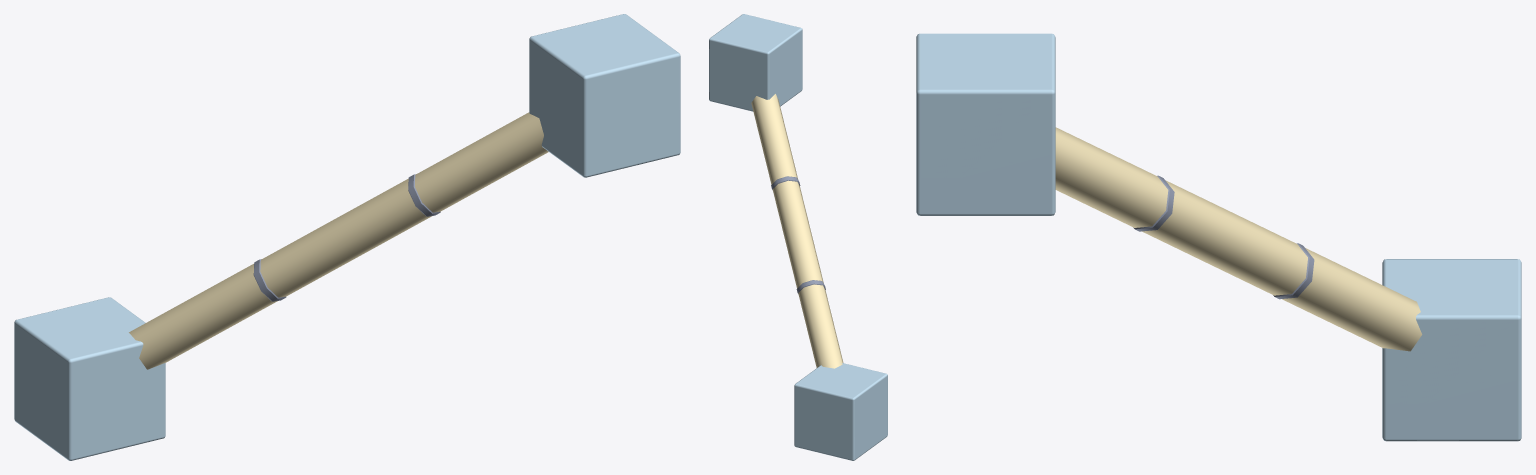
File: R4C_ROD_DIAG_3D.glb
The picture shows the model from 3 angles, left to right: view 1: azimuth 30°, elevation 25°; view 2: azimuth 150°, elevation 25°; view 3: azimuth 270°, elevation 25°; orthographic projection. The views are drawn at different scales.
Parts seen in each view (by area): view 1: R4C_ROD_DIAG_3D; view 2: R4C_ROD_DIAG_3D; view 3: R4C_ROD_DIAG_3D.
Part boxes in pixels (x1,y1,x2,y2): R4C_ROD_DIAG_3D: [14, 14, 680, 460]; R4C_ROD_DIAG_3D: [709, 14, 887, 460]; R4C_ROD_DIAG_3D: [916, 33, 1521, 441].
Size of the model in its own units: 1.62 by 1.62 by 1.62.
